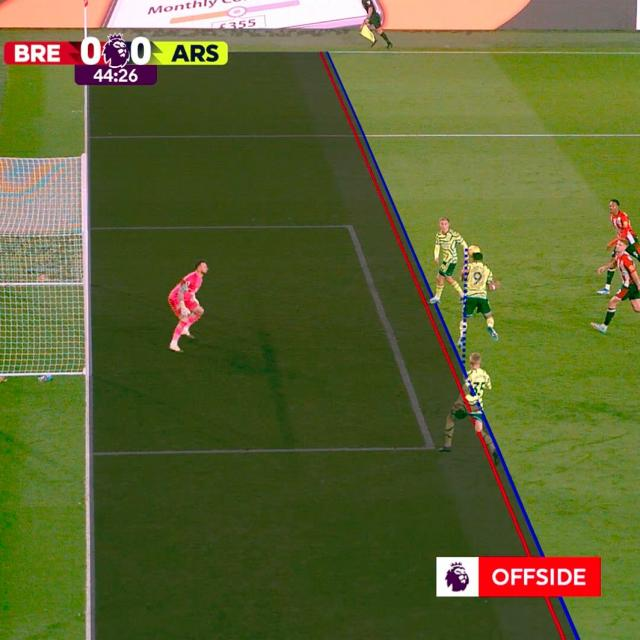offside: (419, 205, 518, 462)
